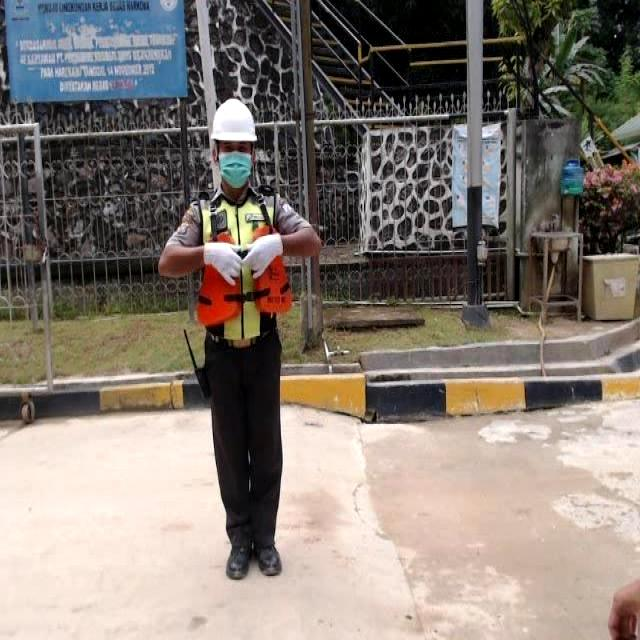hard_hat: (211, 98, 256, 140)
person: (160, 97, 320, 579)
